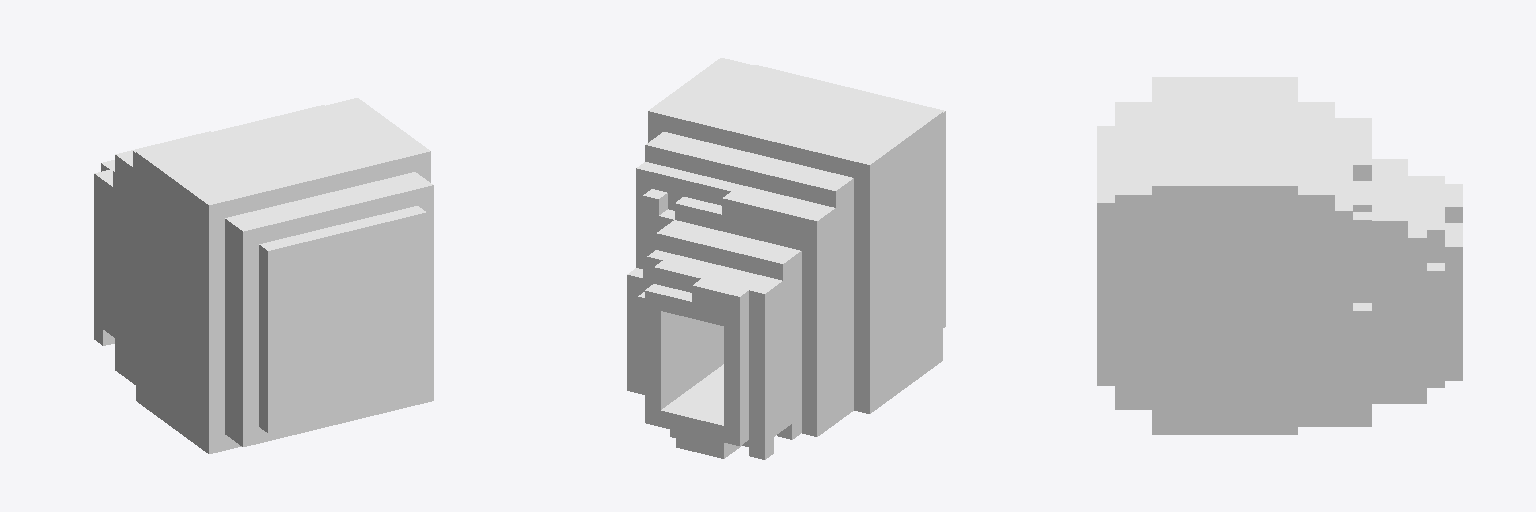
The model's file is Marblebag.obj.
3 renders of one model, left to right at view 1: azimuth 30°, elevation 25°; view 2: azimuth 150°, elevation 25°; view 3: azimuth 270°, elevation 25°, orthographic.
Bounding box in the file's own units: 14 × 15 × 20.